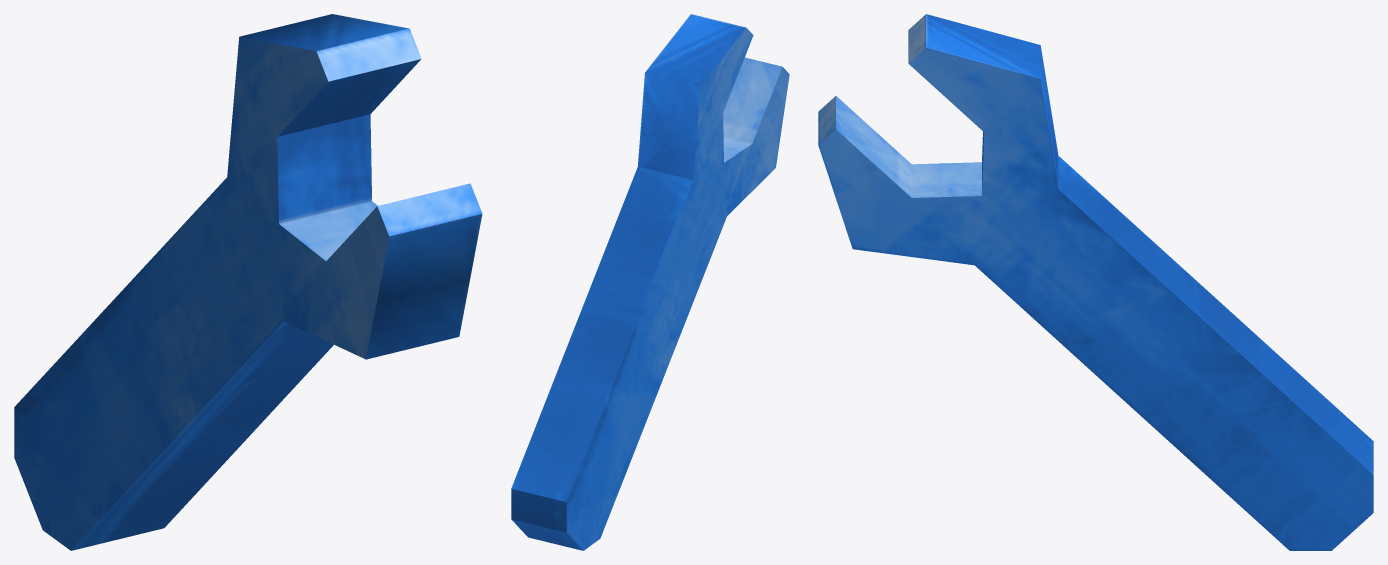
File: wrench.fbx
3 renders of one model, left to right at view 1: azimuth 30°, elevation 25°; view 2: azimuth 150°, elevation 25°; view 3: azimuth 270°, elevation 25°, orthographic. The views are drawn at different scales.
Visible parts, largest first — view 1: wrench_mesh; view 2: wrench_mesh; view 3: wrench_mesh.
Boxes of the visible parts, <box> form: wrench_mesh: <box>14,14,482,550</box>; wrench_mesh: <box>511,14,789,550</box>; wrench_mesh: <box>818,14,1373,550</box>.
Bounding box in the file's own units: 0.00236 × 0.0164 × 0.0164.
